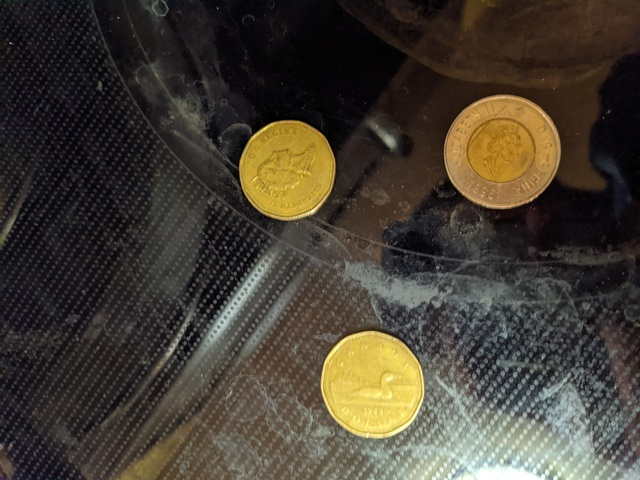loonie: (320, 318, 438, 440), (220, 114, 341, 225)
twonie: (443, 87, 575, 229)
